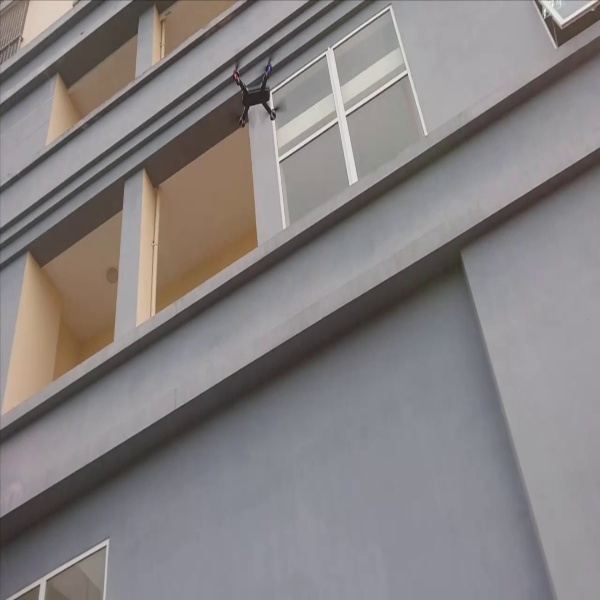drone: (219, 41, 289, 130)
